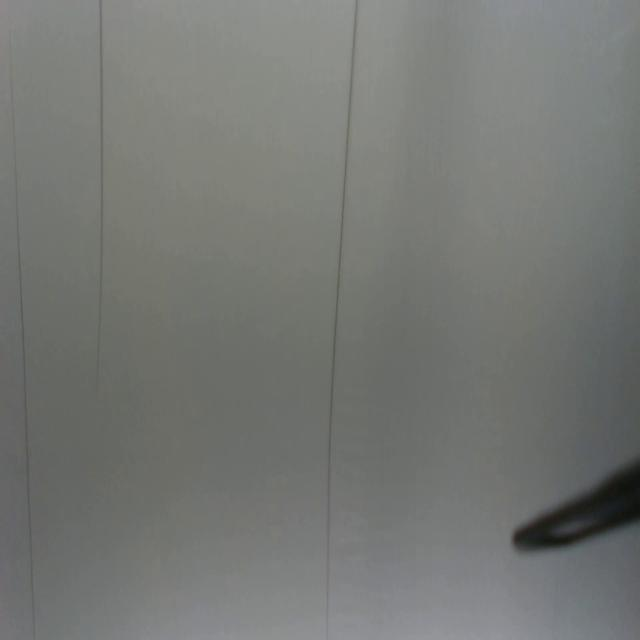crease: (324, 0, 359, 639), (8, 0, 37, 640), (95, 0, 107, 397)
